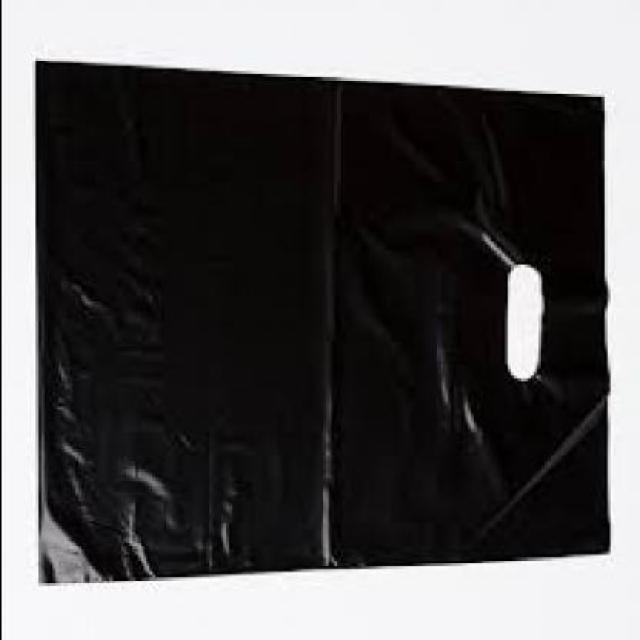PLASTIC: (37, 57, 612, 583)
